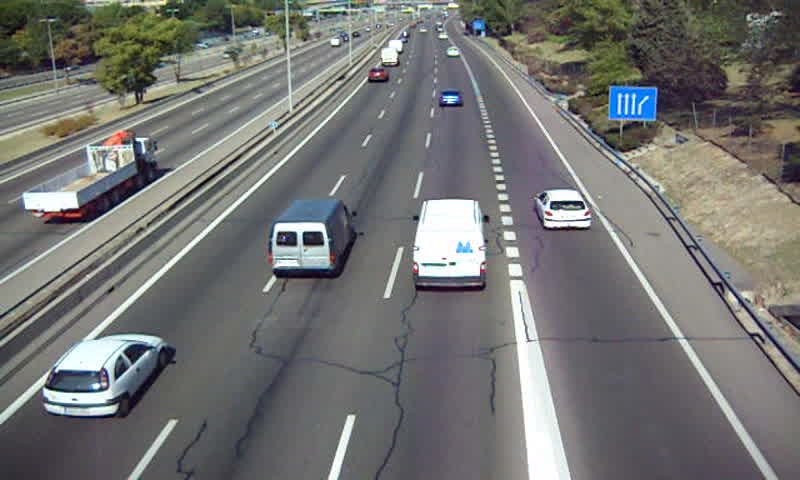car: (39, 334, 166, 420), (535, 187, 592, 230), (438, 89, 464, 107), (367, 67, 389, 83)
van: (412, 199, 487, 291), (267, 199, 355, 275), (380, 48, 399, 66)
